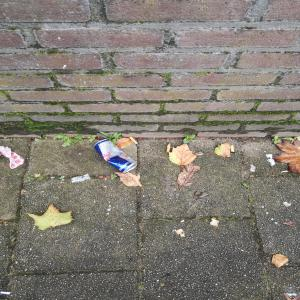Can: (93, 139, 142, 177)
Trash: (1, 144, 28, 173)
